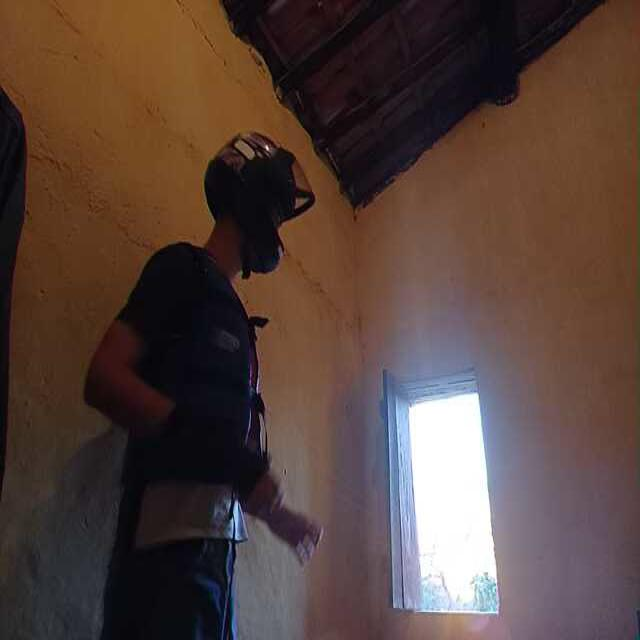capacete: (210, 128, 311, 278)
colete: (136, 242, 266, 483)
pessoa: (103, 151, 259, 640)
